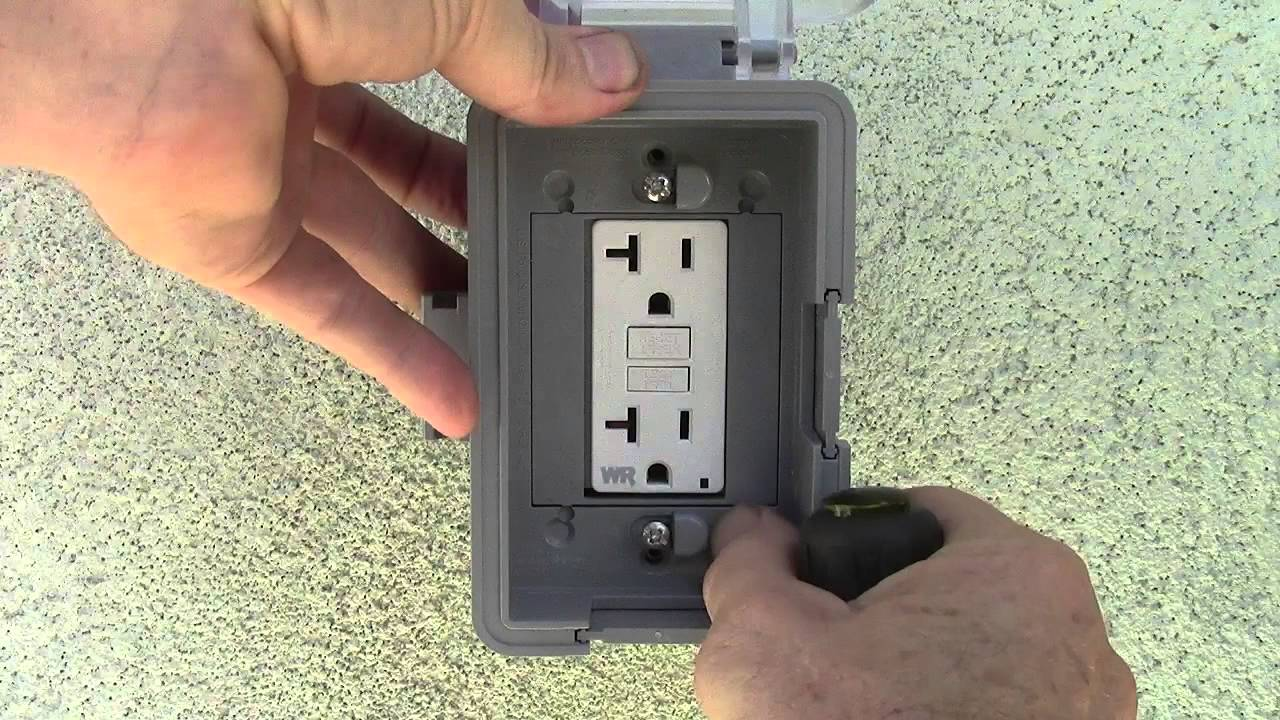outlet: (600, 223, 702, 320), (598, 401, 699, 491)
